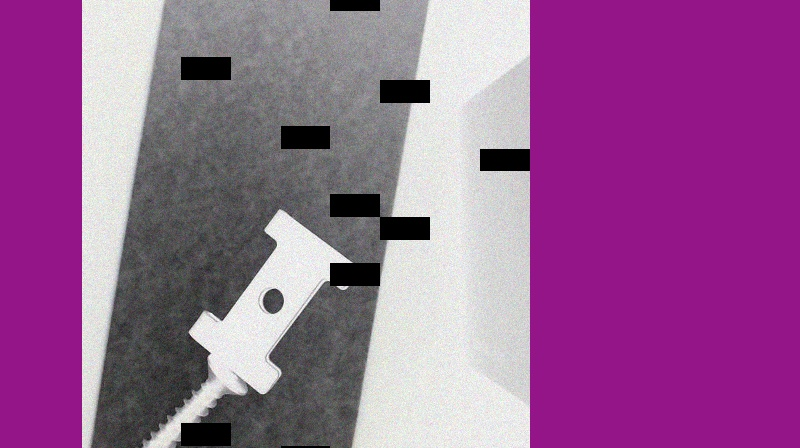O002: (187, 206, 357, 393)
S001: (113, 351, 245, 447)
